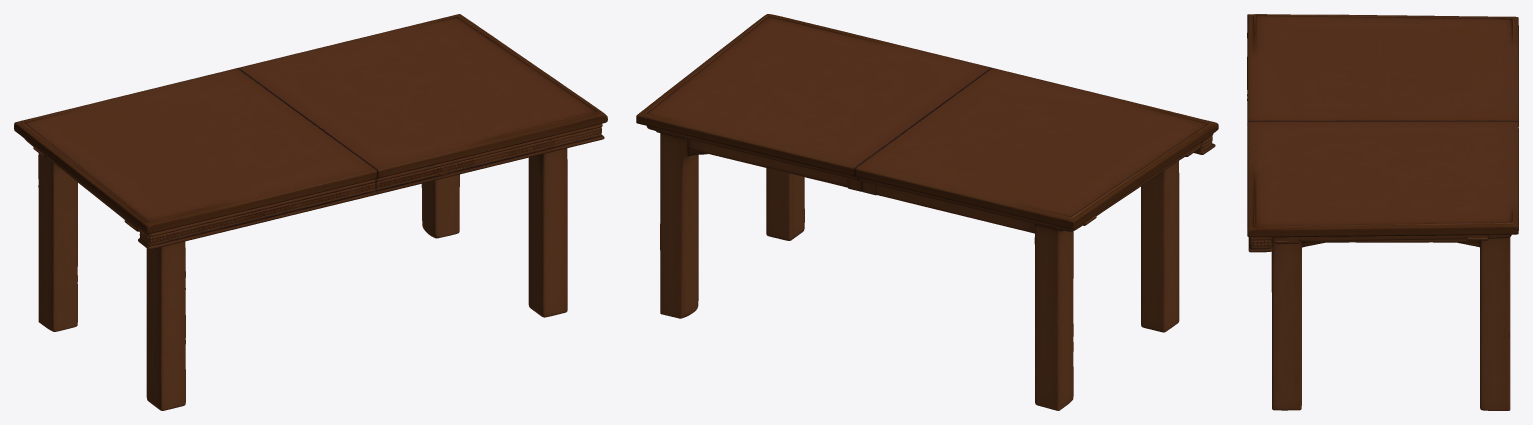
The model's file is Evropa.glb.
The picture shows the model from 3 angles, left to right: view 1: azimuth 30°, elevation 25°; view 2: azimuth 150°, elevation 25°; view 3: azimuth 270°, elevation 25°; orthographic projection. The views are drawn at different scales.
Parts seen in each view (by area): view 1: tripo_node_d29953ae-b889-45a7-9fb0-6e085862d2ad; view 2: tripo_node_d29953ae-b889-45a7-9fb0-6e085862d2ad; view 3: tripo_node_d29953ae-b889-45a7-9fb0-6e085862d2ad.
Boxes of the visible parts, x1,y1,x2,y2 form: tripo_node_d29953ae-b889-45a7-9fb0-6e085862d2ad: (14,14,607,410); tripo_node_d29953ae-b889-45a7-9fb0-6e085862d2ad: (636,14,1218,410); tripo_node_d29953ae-b889-45a7-9fb0-6e085862d2ad: (1247,14,1518,410).
Size of the model in its own units: 0.9785 by 0.4112 by 0.5186.
1 material, 1 textured.
